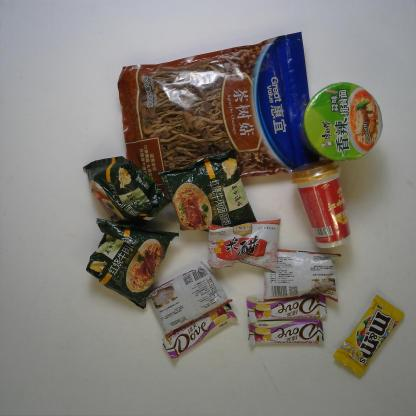Chocolate: (336, 294, 403, 379), (159, 302, 236, 360), (242, 292, 330, 324), (250, 317, 322, 351)
Dried Food: (115, 35, 328, 185)
Instant Drink: (286, 160, 360, 248)
Instant Noodles: (81, 212, 174, 312), (158, 148, 256, 232), (301, 77, 387, 172), (77, 154, 166, 230)
Seasoner: (145, 260, 234, 329), (255, 243, 351, 301), (206, 217, 281, 272)
